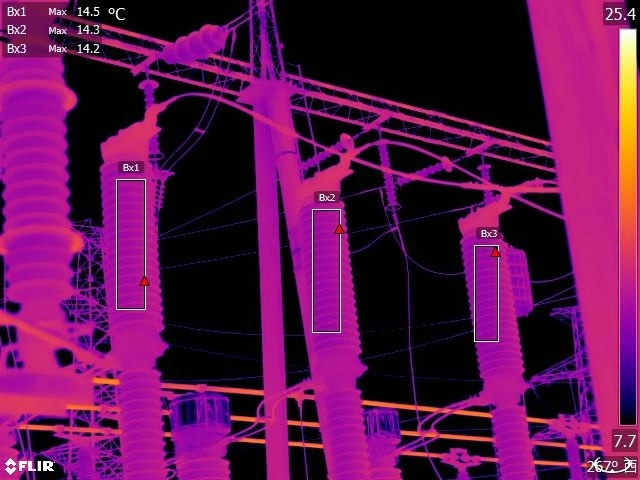circuit breaker: (104, 122, 181, 480), (299, 169, 384, 480), (1, 1, 88, 303), (457, 201, 541, 480)
clamp: (389, 220, 408, 235)
current transformer: (165, 371, 239, 480), (364, 399, 418, 480)
insulator: (162, 16, 233, 67), (297, 127, 356, 173), (388, 154, 456, 190), (141, 80, 164, 162), (379, 134, 399, 220), (148, 160, 173, 214), (478, 159, 496, 209)
wave trap: (508, 240, 539, 327)
